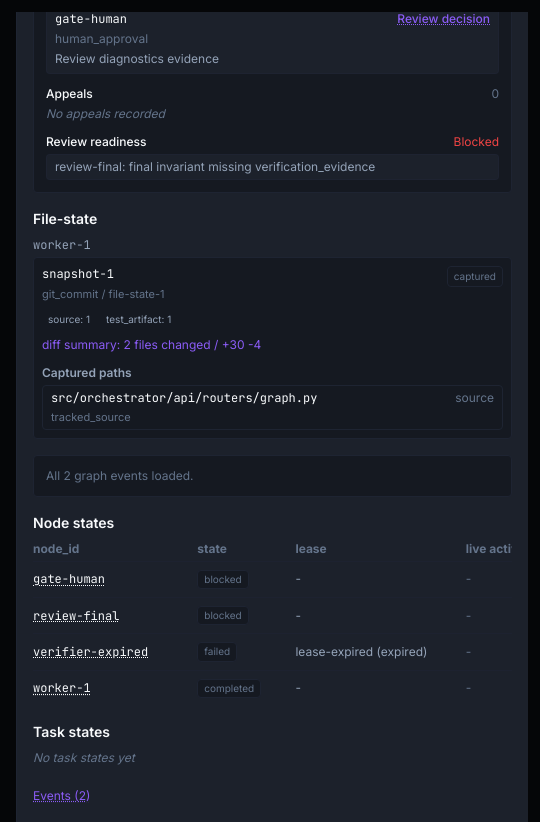
Test: S3 graph diagnostics hidden oracle › renders compact graph health and opens causal node detail without raw payloads
The width and height of the screenshot is (540, 822).
(page scrolled)
Step 1. Click the button "verifier-expired" → {"x": 91, "y": 652}, box [33,644,148,660]
(page scrolled)
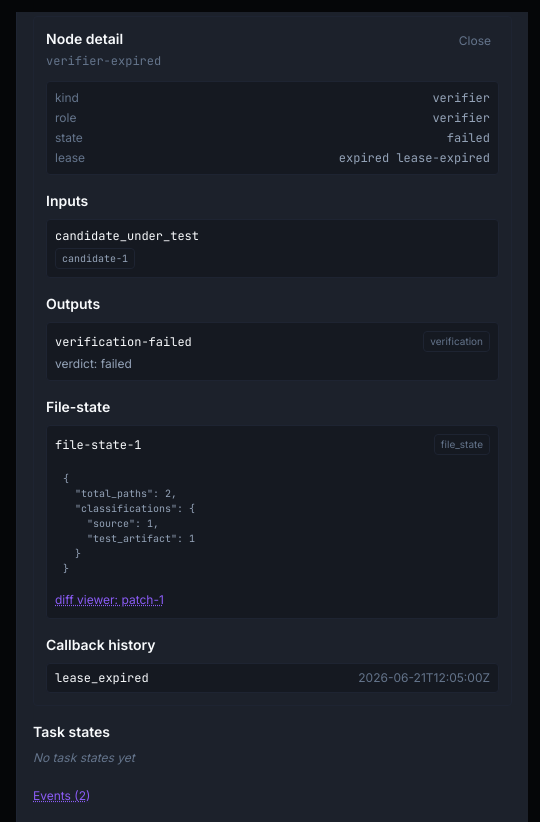
Check: the element with test id "node-detail-panel" is shown
Check: the text "candidate_under_test" is shown, box [55,228,199,244]
Check: the text "verification-failed" is shown, box [55,334,192,350]
